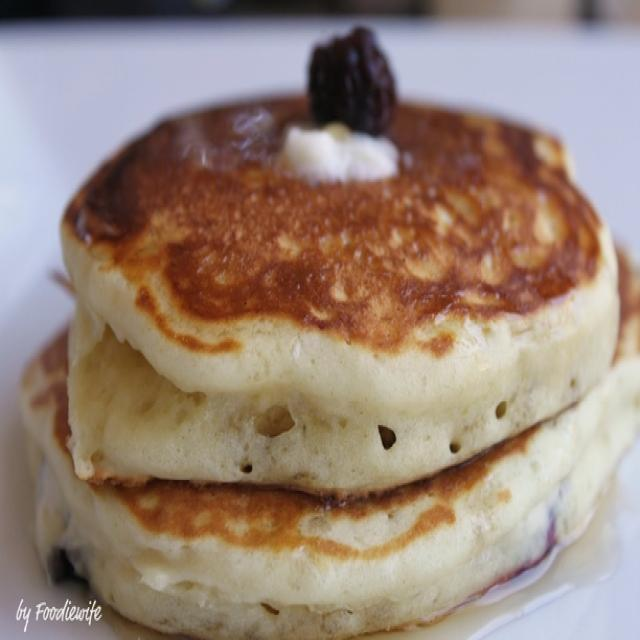蛋糕甜品: (5, 17, 634, 631)
